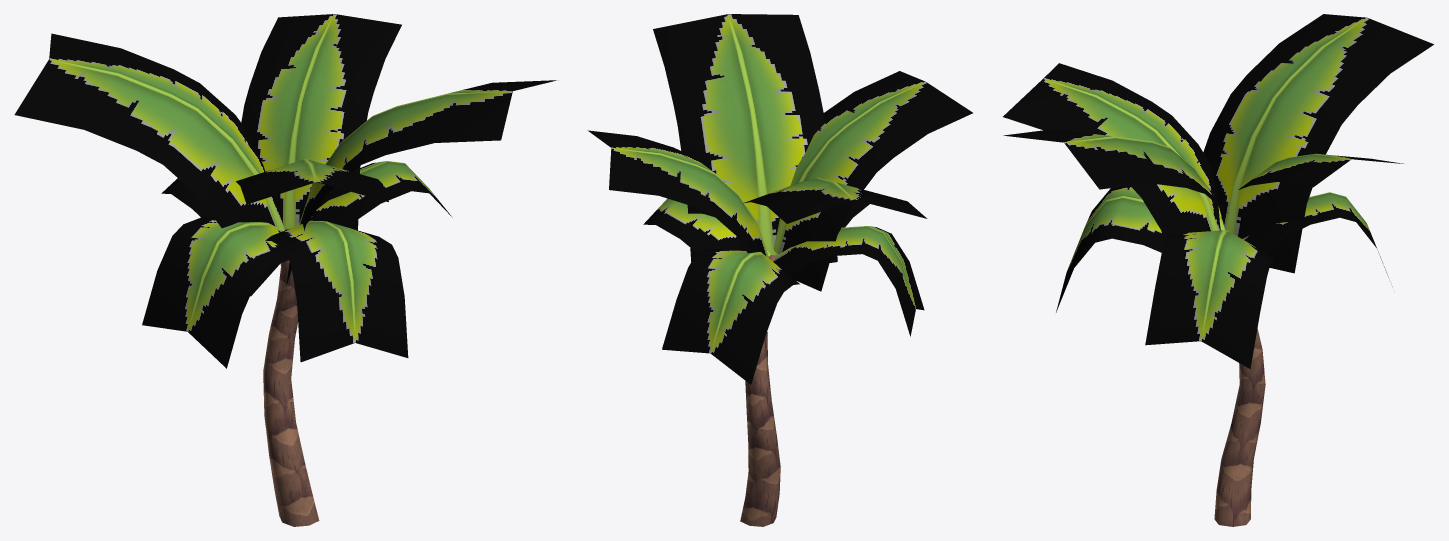
File: q_PalmTree_3.glb
3 views of the same model, side by side, from view 1: azimuth 30°, elevation 25°; view 2: azimuth 150°, elevation 25°; view 3: azimuth 270°, elevation 25° (orthographic). The views are drawn at different scales.
Visible parts, largest first — view 1: PalmTree_3_Cube.006; view 2: PalmTree_3_Cube.006; view 3: PalmTree_3_Cube.006.
Part boxes in pixels (bbox=[...]): PalmTree_3_Cube.006: bbox=[14, 14, 558, 526]; PalmTree_3_Cube.006: bbox=[587, 14, 972, 526]; PalmTree_3_Cube.006: bbox=[1003, 14, 1433, 526].
Size of the model in its own units: 4.47 by 4.67 by 4.22.
2 materials, 2 textured.
